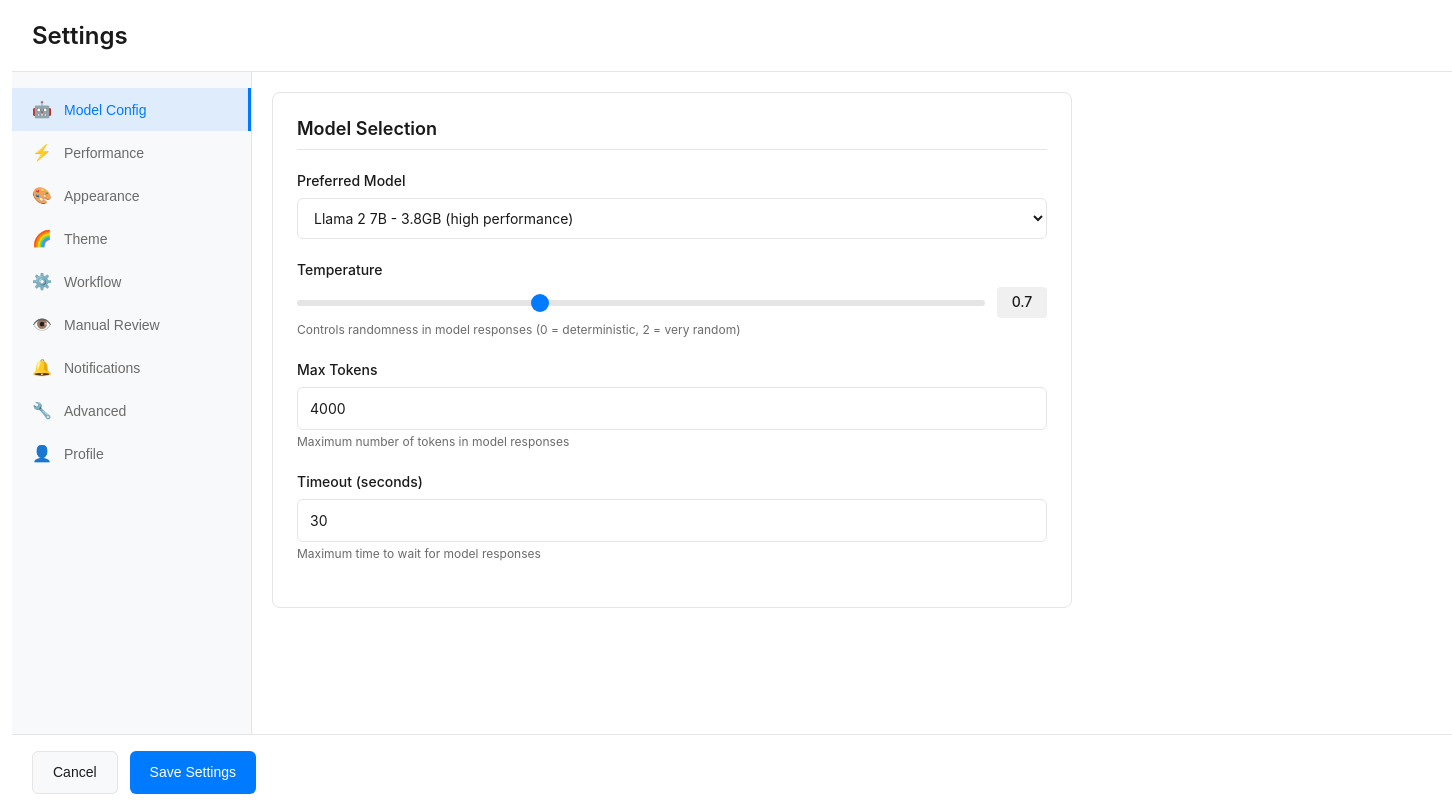
it: Settings Component › handles reset to defaults functionality
expect the heading "Settings" is shown: met, box left=32, top=20, right=128, bottom=51
# Navigate to profile tab
Click the text "Profile" at (84, 454), box left=64, top=446, right=104, bottom=462
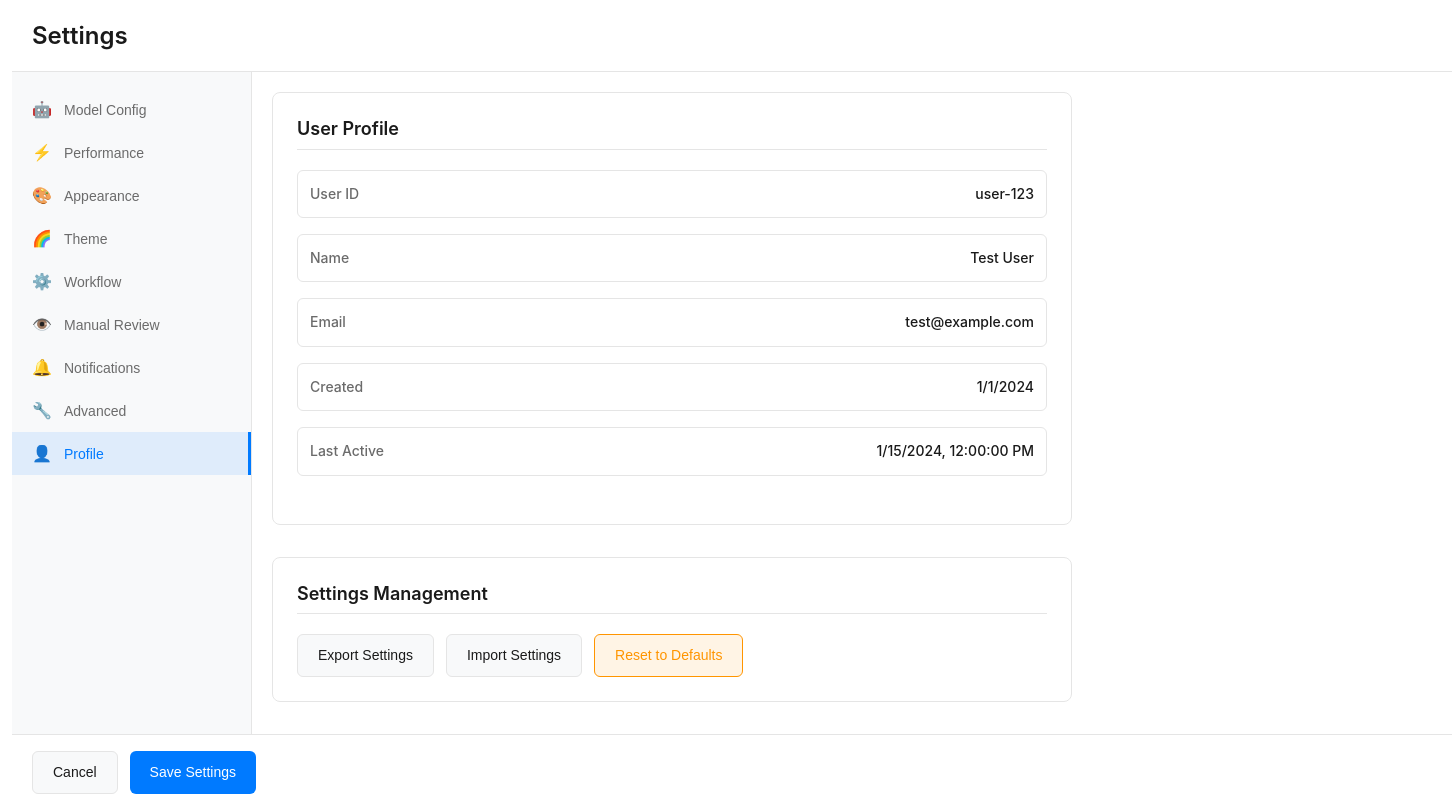
# Click reset button
Click the button "Reset to Defaults" at (669, 655), box left=594, top=634, right=744, bottom=677
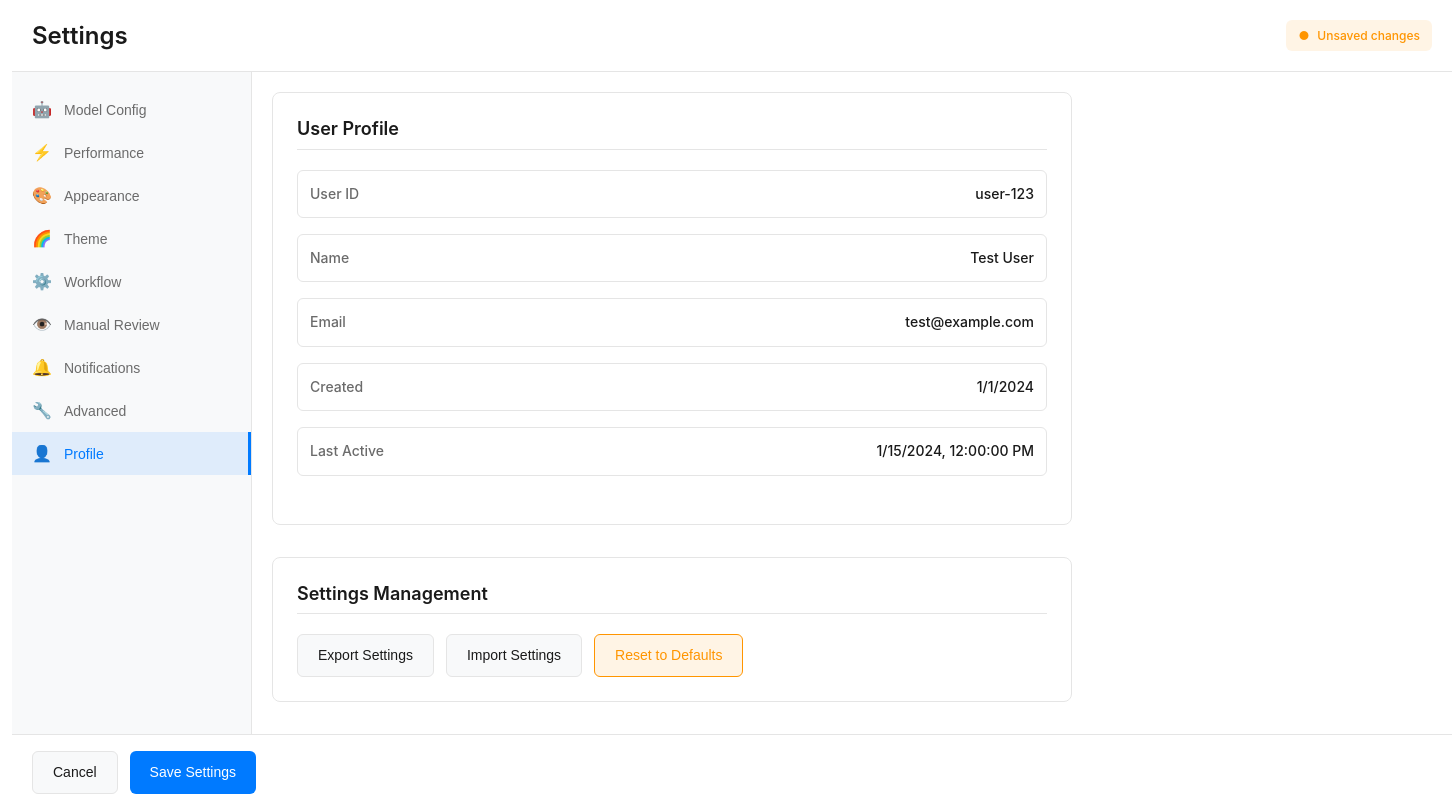
expect the text "Unsaved changes" is shown: met, box left=1317, top=26, right=1420, bottom=45
